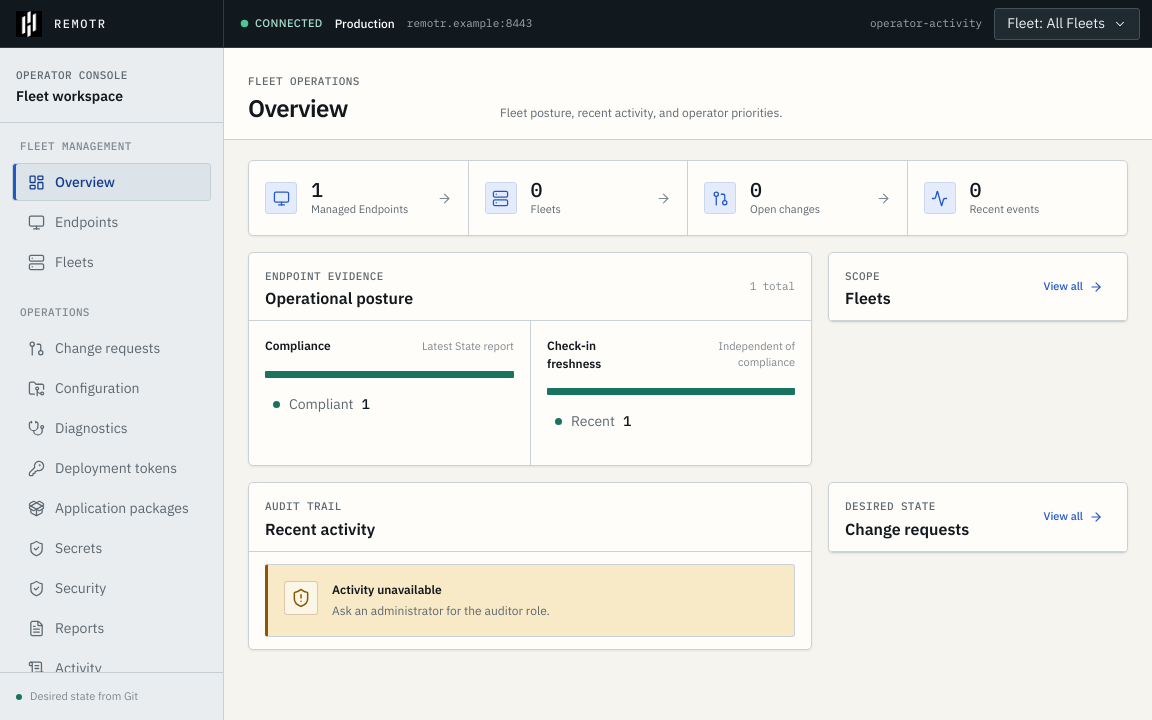
Test case: ActivityPage › keeps an Activity authorization failure local to the connected shell
Click the button "Activity". click: (112, 668)
box: [12, 649, 211, 687]
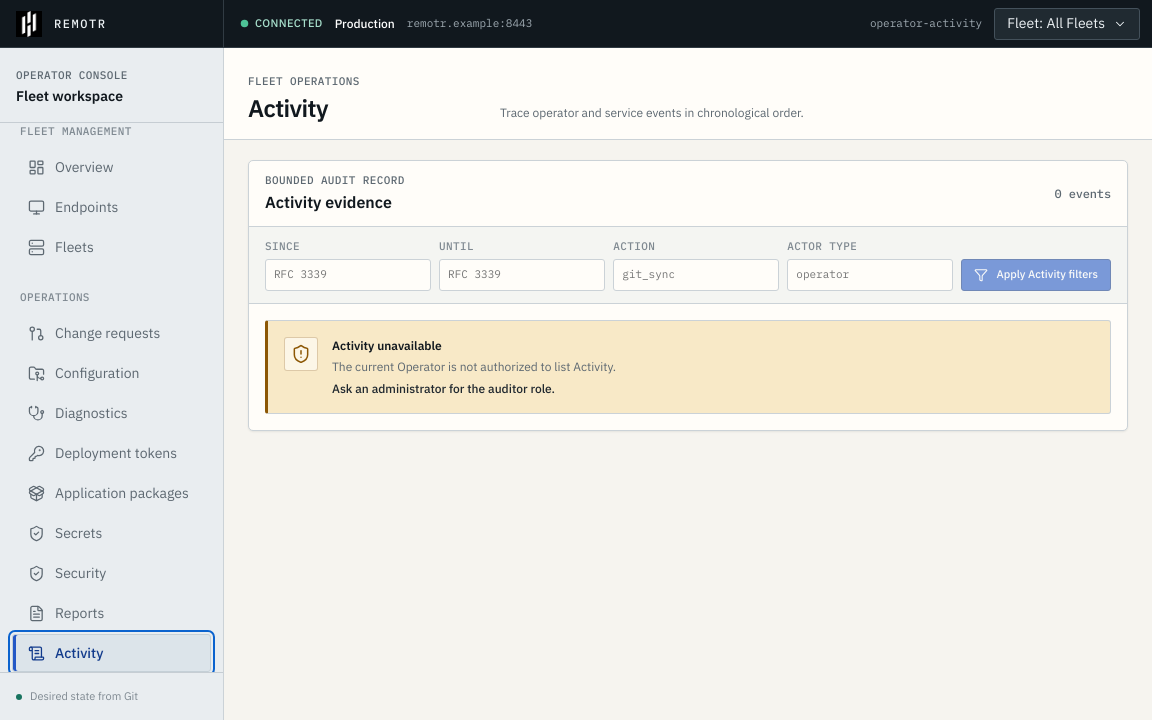
Expected: the text "Activity unavailable" is shown, [332, 338, 442, 353]
Expected: the text "The current Operator is not authorized to list Activity." is shown, [332, 360, 616, 374]
Click the button "Endpoints". click: (112, 207)
box: [12, 188, 211, 226]
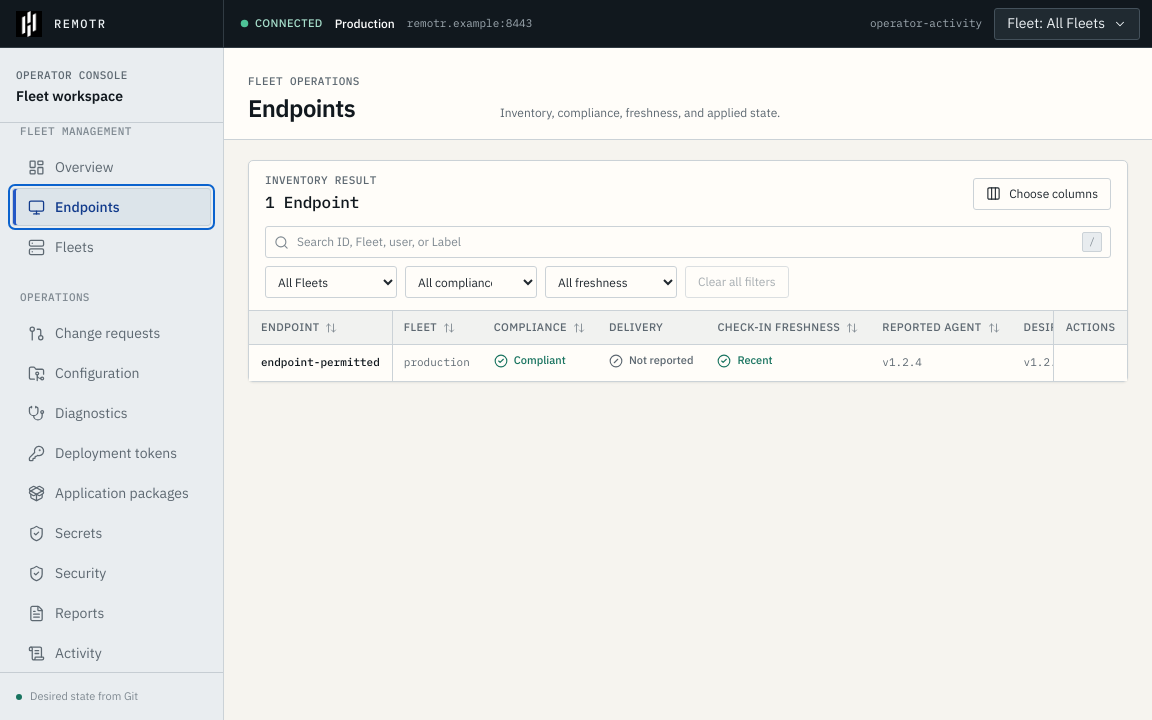
Expected: the table named "Endpoints" is shown, [249, 311, 1127, 381]
Expected: the cell "endpoint-permitted" is shown, [249, 345, 392, 381]
